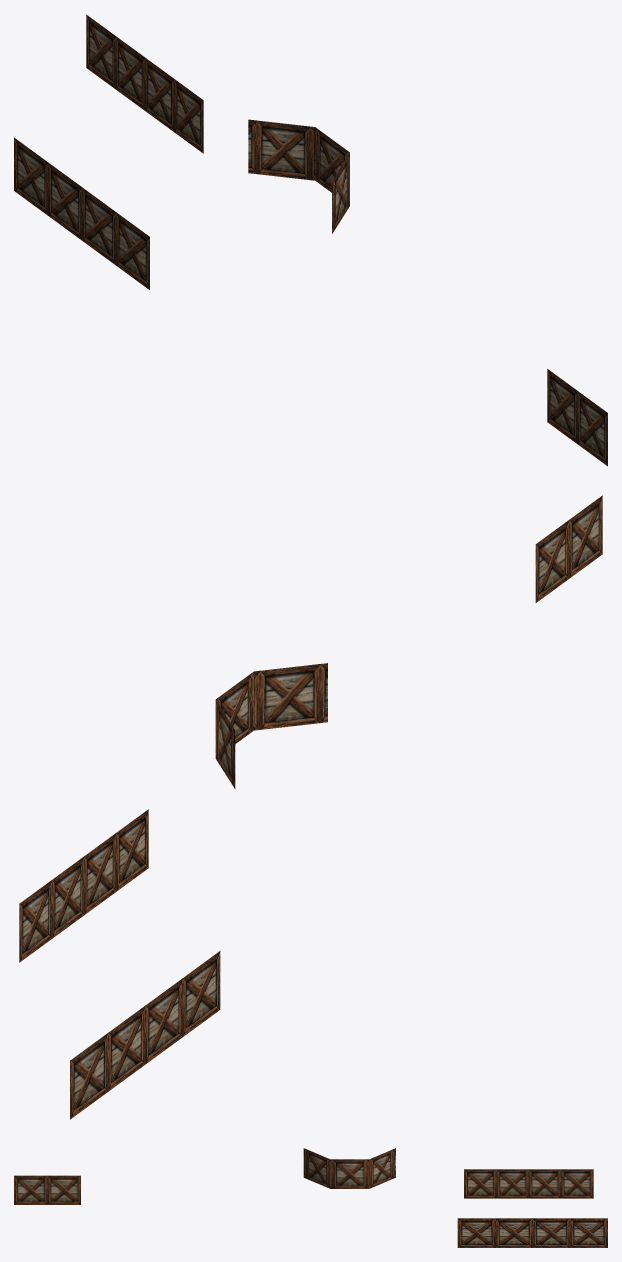
Rendered from LAKETOWN_EXTERIOR_PS_LT_PANELS092191.fbx.
3 renders of one model, top to bottom at view 1: azimuth 30°, elevation 25°; view 2: azimuth 150°, elevation 25°; view 3: azimuth 270°, elevation 25°, orthographic. The views are drawn at different scales.
Visible parts, largest first — view 1: LAKETOWN_EXTERIOR_PS_LT_PANELS092191; view 2: LAKETOWN_EXTERIOR_PS_LT_PANELS092191; view 3: LAKETOWN_EXTERIOR_PS_LT_PANELS092191.
Boxes of the visible parts, box(x1,y1,x2,y2) form: LAKETOWN_EXTERIOR_PS_LT_PANELS092191: box(14, 14, 607, 466); LAKETOWN_EXTERIOR_PS_LT_PANELS092191: box(19, 495, 602, 1119); LAKETOWN_EXTERIOR_PS_LT_PANELS092191: box(14, 1148, 607, 1247).
Bounding box in the file's own units: 16944 × 38550 × 186519.
Materials: 1 (1 with a texture image).
